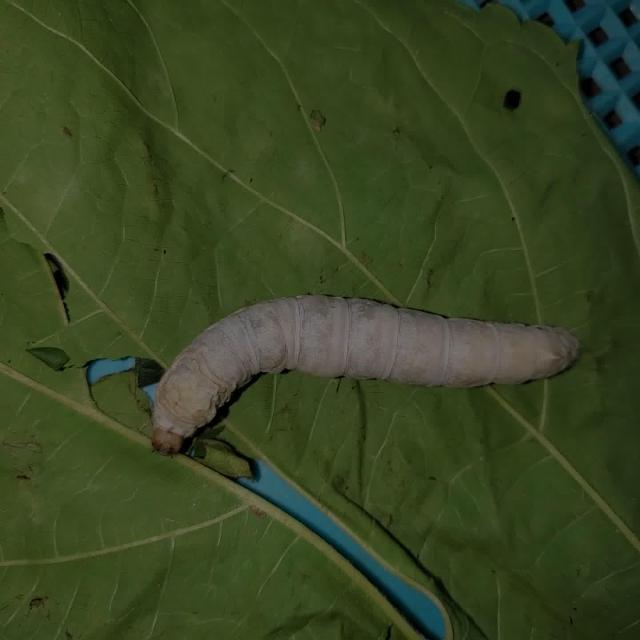Grasserie: (130, 243, 600, 530)
